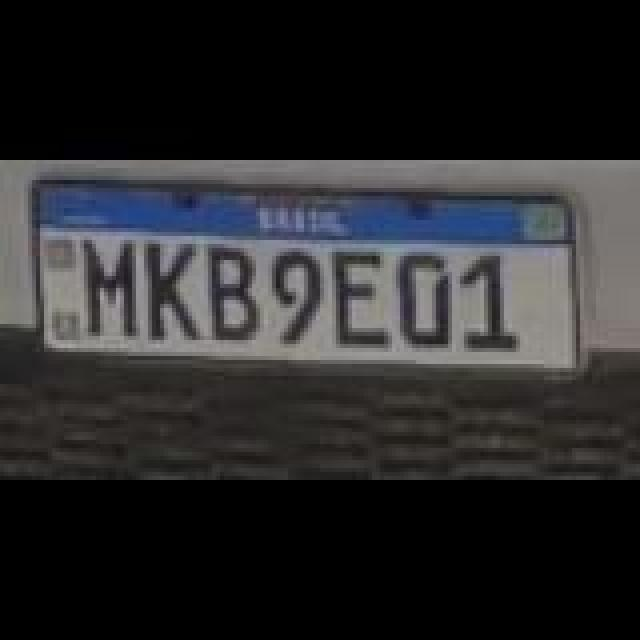1: (462, 256, 522, 352)
9: (274, 248, 326, 344)
B: (208, 244, 264, 340)
D: (398, 250, 458, 350)
E: (334, 250, 394, 350)
K: (146, 242, 206, 342)
M: (82, 242, 142, 342)
